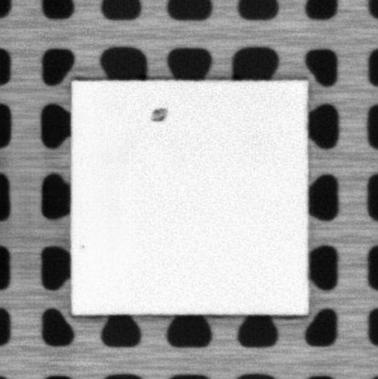DIE_INK: (150, 106, 170, 122)
